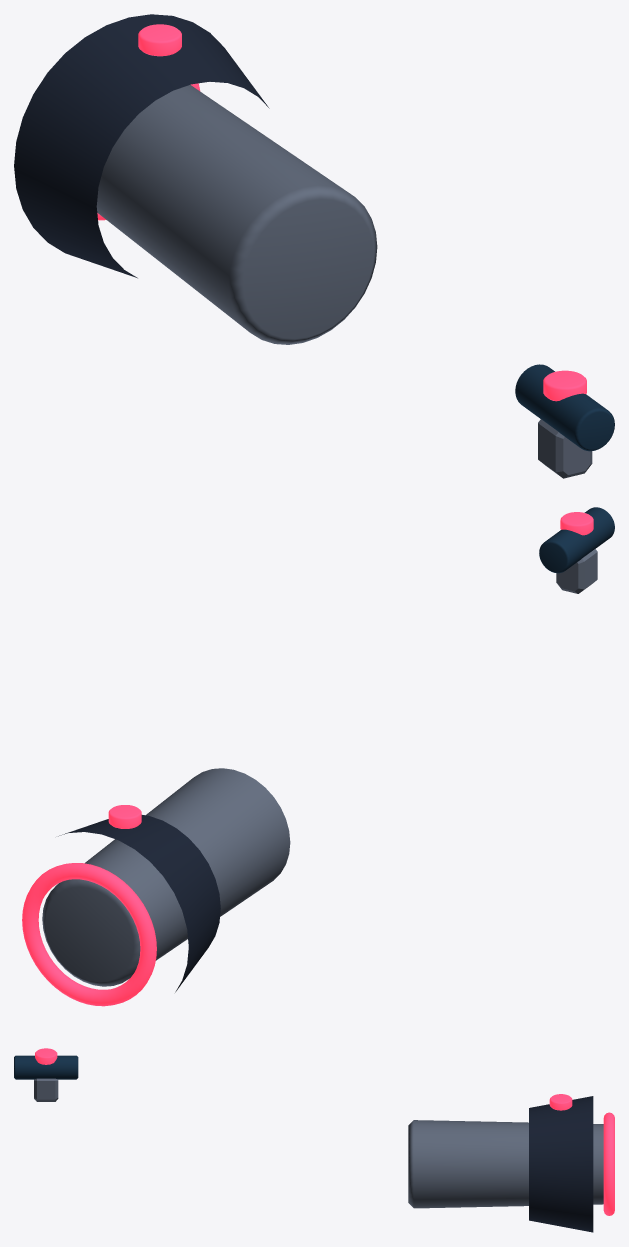
The model's file is tower_filament_optics_s4.glb.
The picture shows the model from 3 angles, top to bottom: view 1: azimuth 30°, elevation 25°; view 2: azimuth 150°, elevation 25°; view 3: azimuth 270°, elevation 25°; orthographic projection. The views are drawn at different scales.
Parts seen in each view (by area): view 1: filament_tube_ext, filament_lens_hood, filament_sight_glass, filament_sight_mount, filament_up_optics_l3_stud, filament_up_optics_l2_stud; view 2: filament_tube_ext, filament_lens_hood, filament_tube_ext_ring, filament_sight_glass, filament_sight_mount, filament_up_optics_l3_stud; view 3: filament_tube_ext, filament_lens_hood, filament_sight_glass, filament_tube_ext_ring, filament_sight_mount, filament_up_optics_l3_stud, filament_up_optics_l2_stud.
Part boxes in pixels (x1,y1,x2,y2): filament_tube_ext: [96, 85, 377, 344]; filament_lens_hood: [14, 14, 269, 278]; filament_sight_glass: [515, 364, 614, 451]; filament_sight_mount: [538, 419, 592, 478]; filament_up_optics_l3_stud: [138, 24, 181, 56]; filament_up_optics_l2_stud: [543, 370, 586, 401]; filament_tube_ext: [42, 768, 290, 986]; filament_lens_hood: [58, 815, 220, 992]; filament_tube_ext_ring: [22, 863, 156, 1006]; filament_sight_glass: [539, 507, 614, 573]; filament_sight_mount: [556, 549, 597, 593]; filament_up_optics_l3_stud: [108, 805, 141, 828]; filament_tube_ext: [408, 1120, 603, 1208]; filament_lens_hood: [529, 1096, 593, 1232]; filament_sight_glass: [14, 1055, 78, 1079]; filament_tube_ext_ring: [603, 1112, 614, 1215]; filament_sight_mount: [34, 1078, 58, 1101]; filament_up_optics_l3_stud: [549, 1094, 572, 1110]; filament_up_optics_l2_stud: [35, 1048, 57, 1064].
Size of the model in its own units: 0.34 by 0.411 by 1.49.
